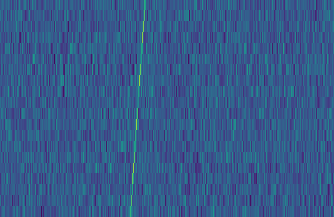signal: (125, 0, 149, 217)
